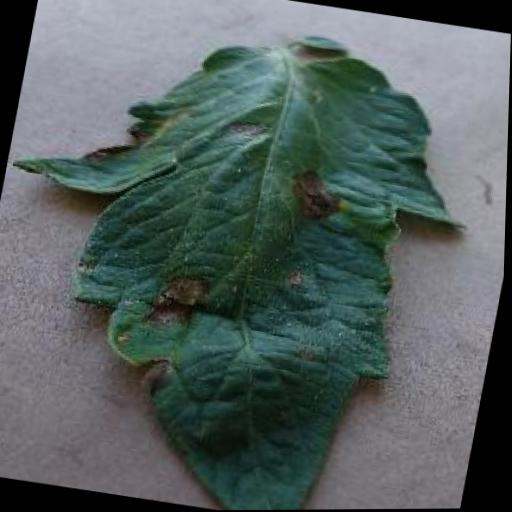Early Blight: (0, 0, 498, 512)
